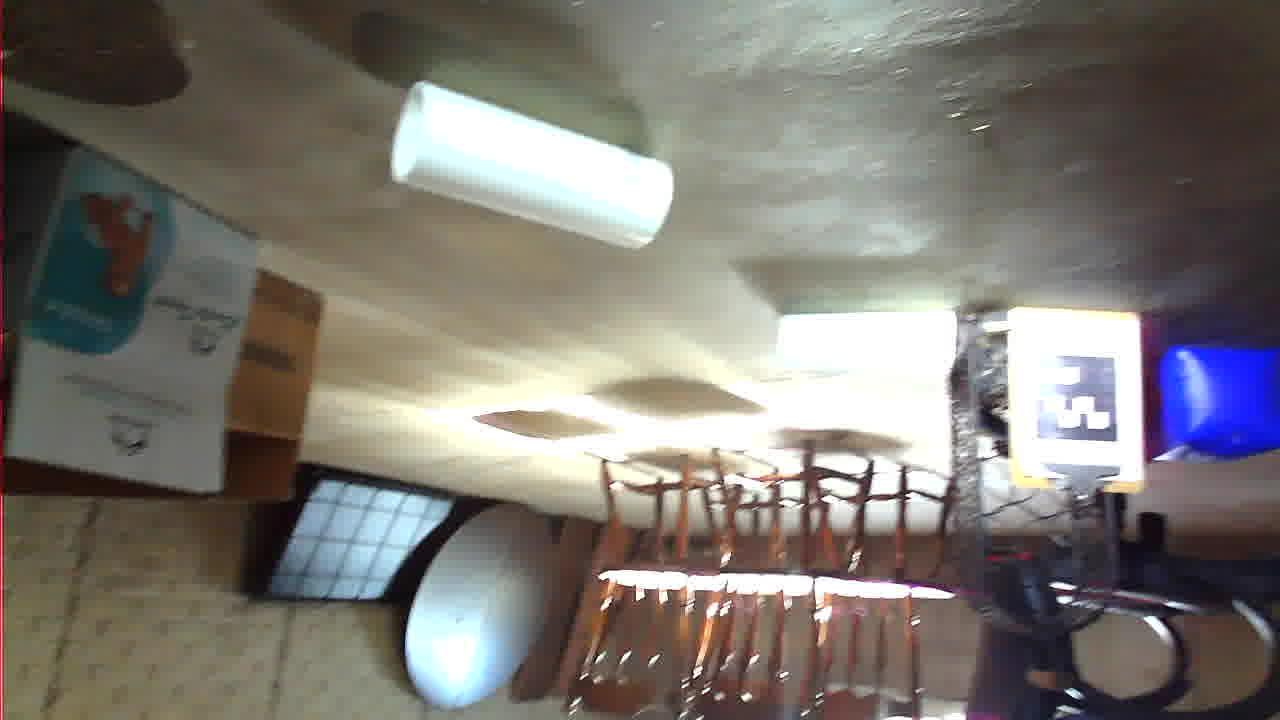coral: (606, 470, 888, 639), (322, 350, 506, 410)
